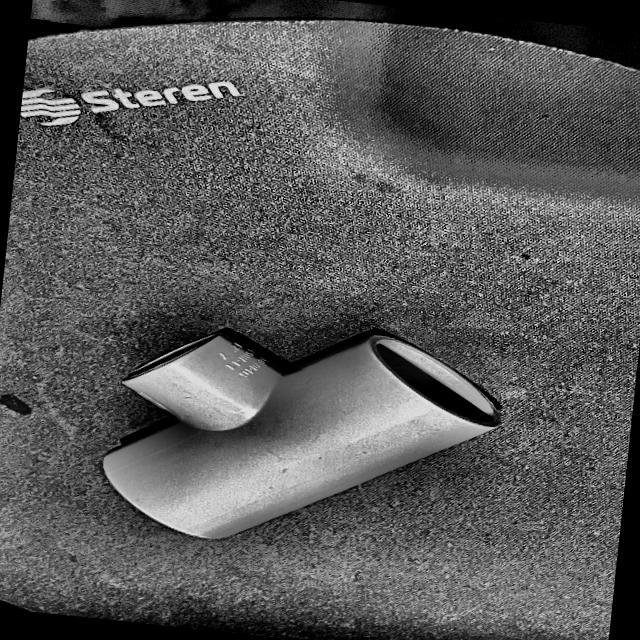EQUALTEE: (100, 327, 504, 538)
